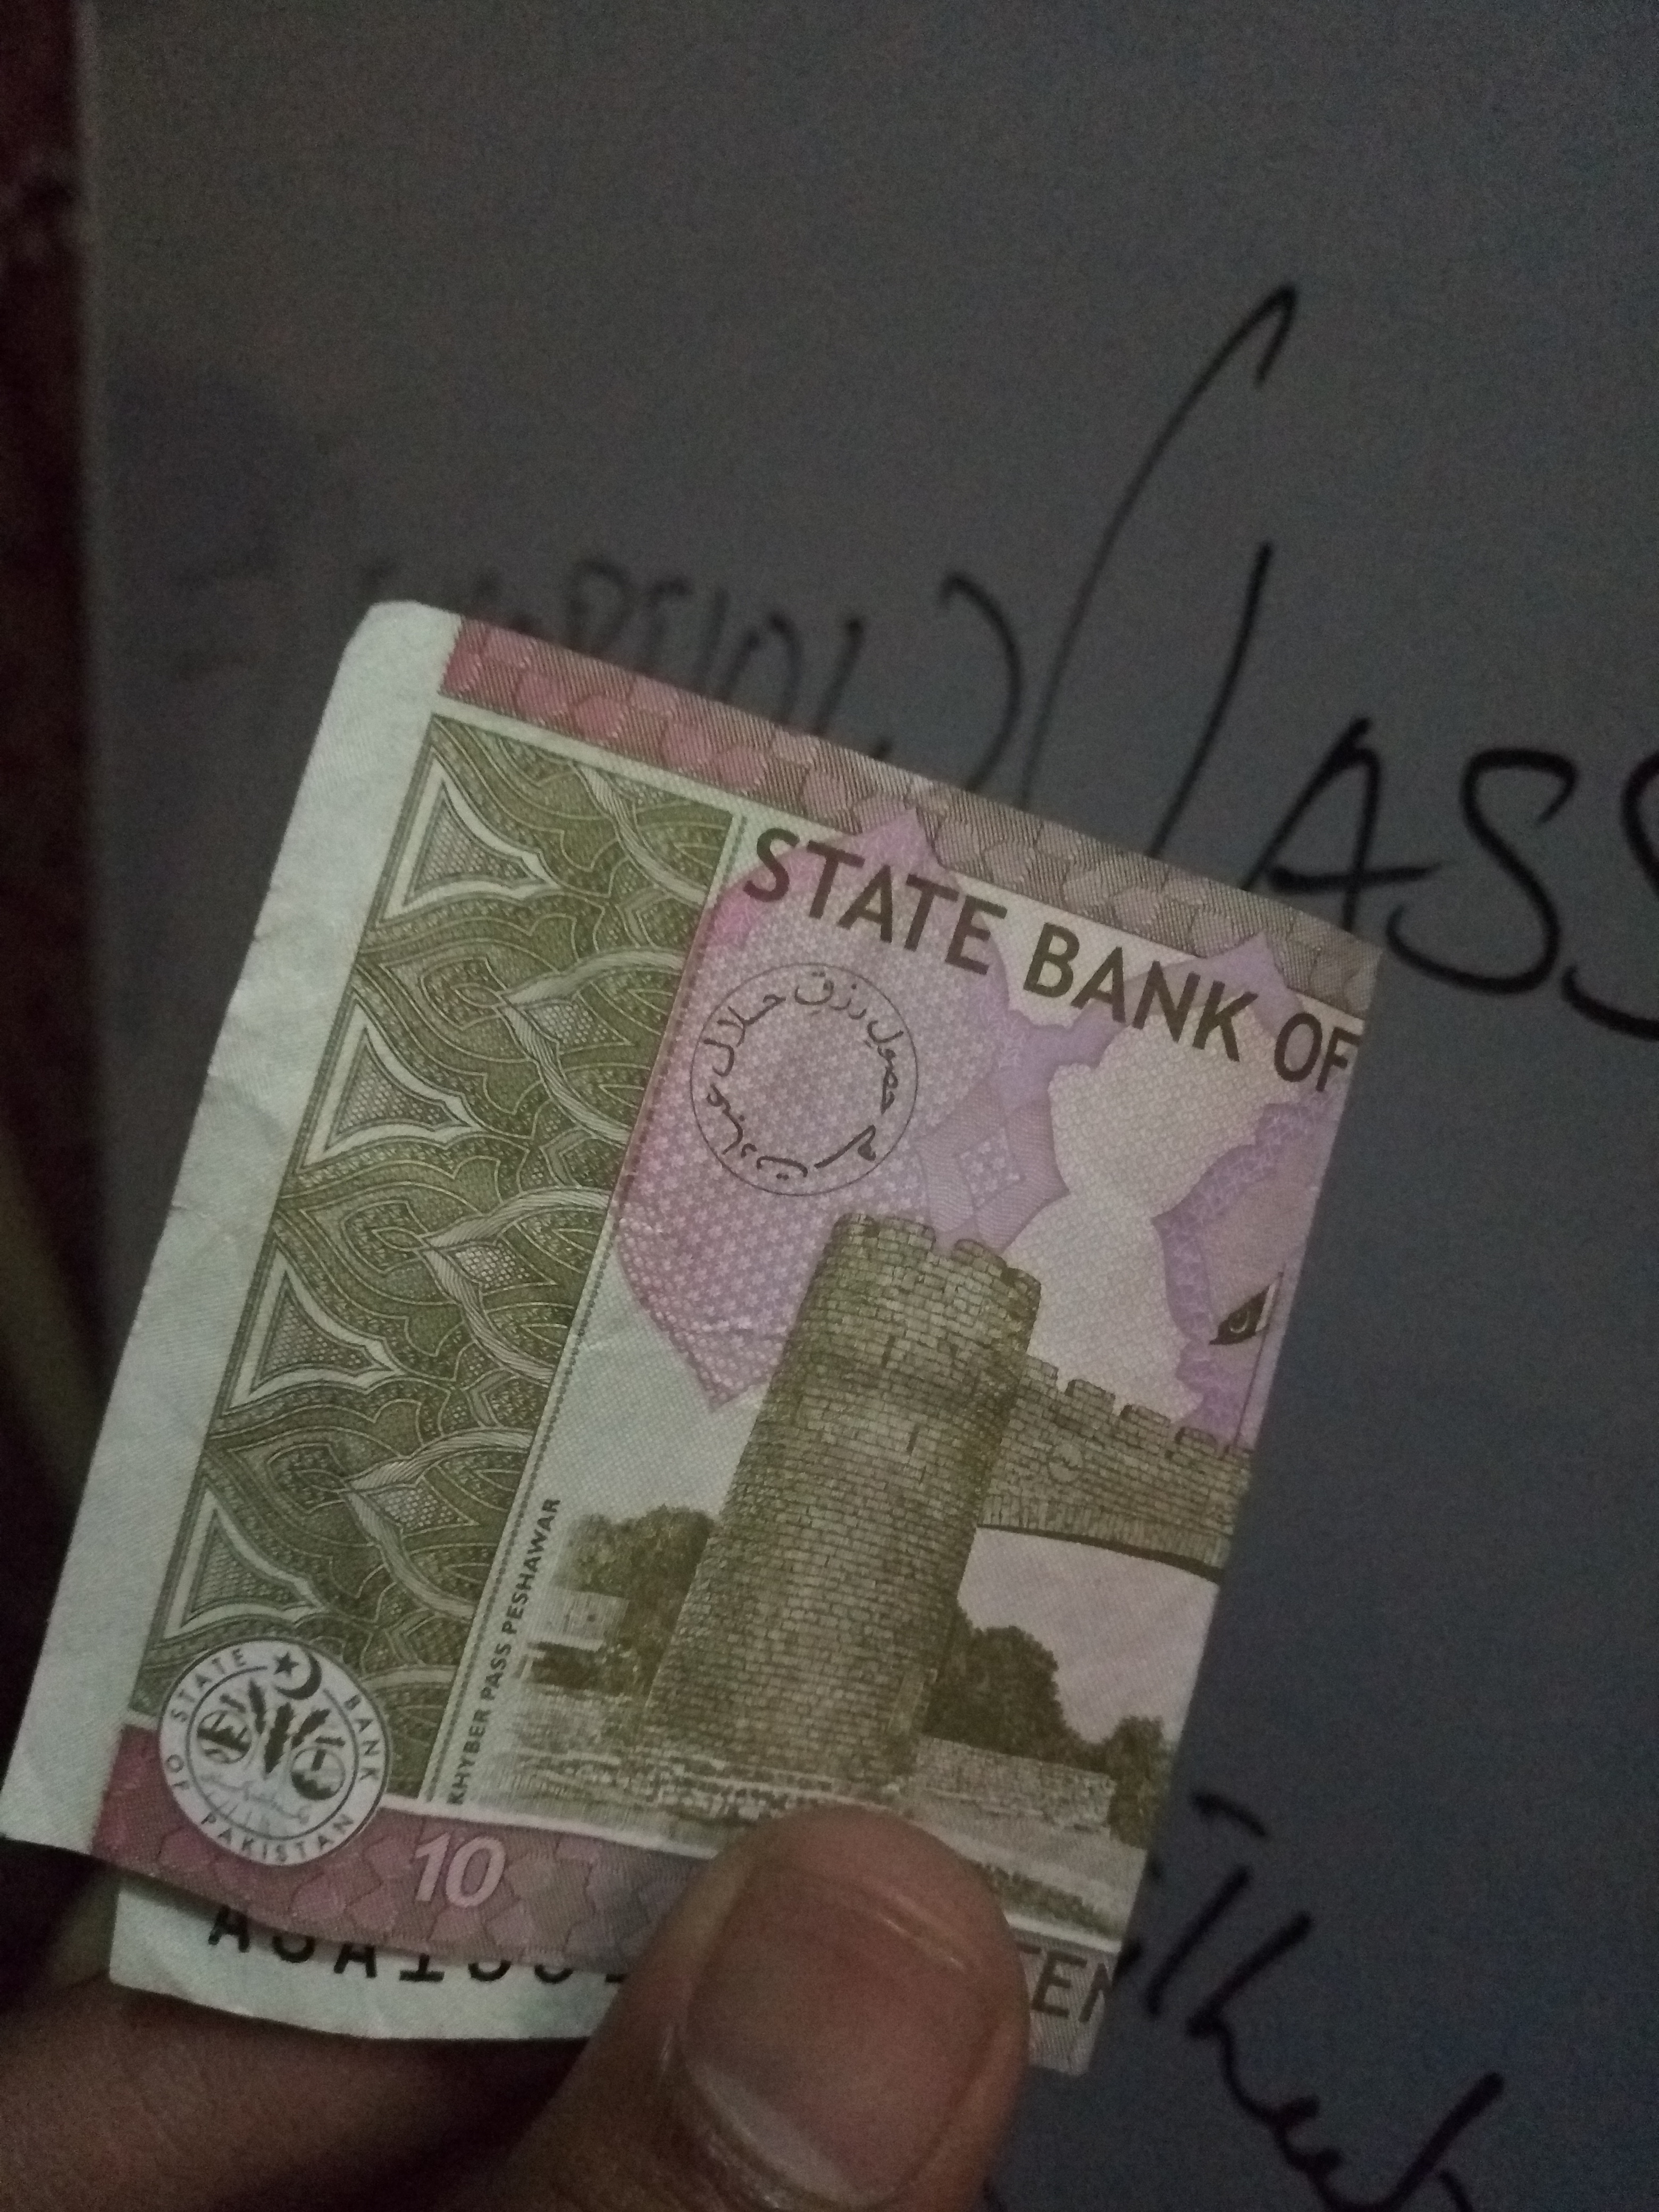10 rupee: (30, 589, 1405, 2212)
